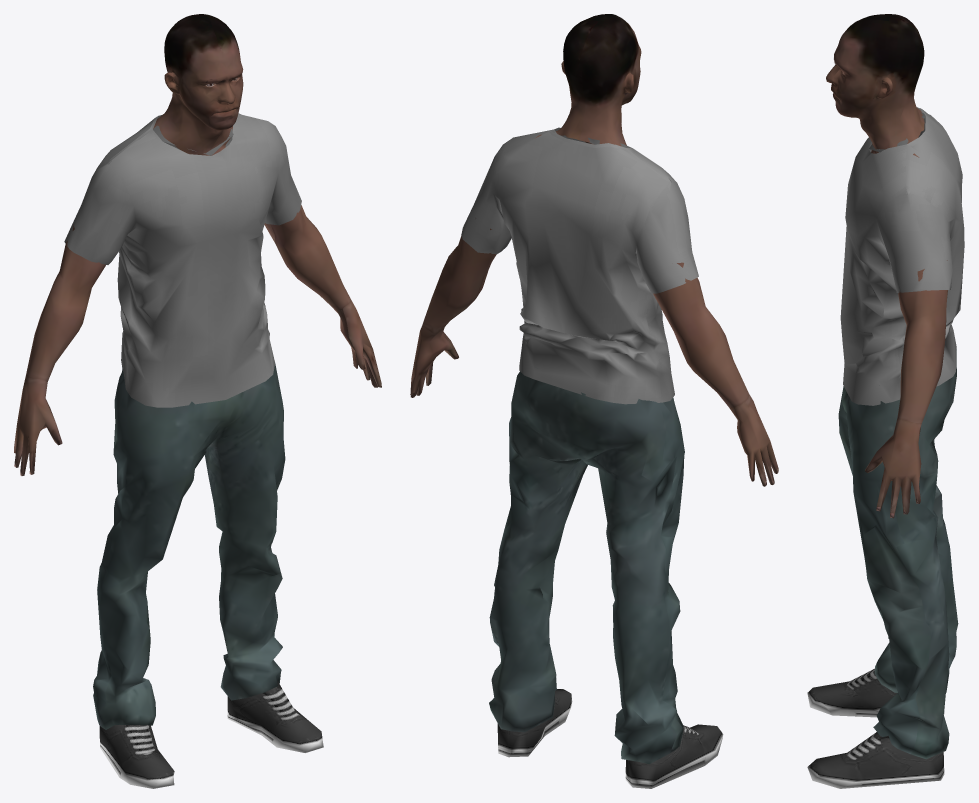
Rendered from smix.glb.
3 views of the same model, side by side, from view 1: azimuth 30°, elevation 25°; view 2: azimuth 150°, elevation 25°; view 3: azimuth 270°, elevation 25° (orthographic).
Parts seen in each view (by area): view 1: Object_5, Object_6, Object_9, Object_12, Object_10; view 2: Object_6, Object_5, Object_9, Object_12, Object_10; view 3: Object_6, Object_5, Object_12, Object_9, Object_10.
Part boxes in pixels (<box>): Object_5: <box>64,113,301,407</box>; Object_6: <box>93,363,285,729</box>; Object_9: <box>14,205,381,475</box>; Object_12: <box>153,14,243,155</box>; Object_10: <box>99,681,323,788</box>; Object_6: <box>489,367,684,764</box>; Object_5: <box>461,129,698,404</box>; Object_9: <box>410,218,778,486</box>; Object_12: <box>535,14,641,146</box>; Object_10: <box>497,689,723,788</box>; Object_6: <box>838,349,958,759</box>; Object_5: <box>840,108,964,405</box>; Object_12: <box>826,14,924,157</box>; Object_9: <box>865,260,947,518</box>; Object_10: <box>807,668,944,788</box>.
Bounding box in the file's own units: 4.48 × 8.78 × 1.72.
12 materials, 11 textured.
